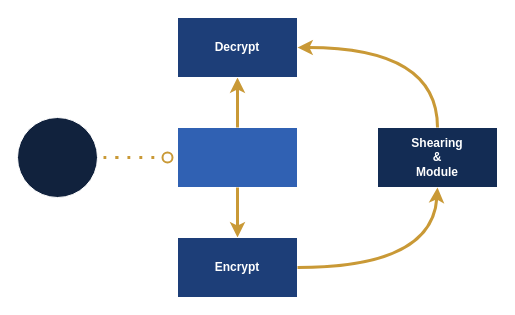
Image size: 515x315. Some labels were removed from this diagram. Each missing label, with the centre of its shape:
Image: the point at 57,157
Process: the point at 237,157
